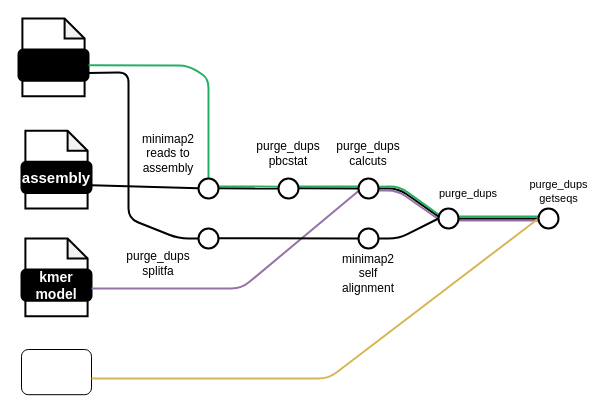
Image size: 615x412. Some labels were removed from this diagram. The shapes that lost their labels are listed below. From the top down, each one's box as (x1, y1, x2, y2) in pixels, then its label:
(17, 48, 89, 81): Fasta
(20, 348, 92, 395): prefix: String
